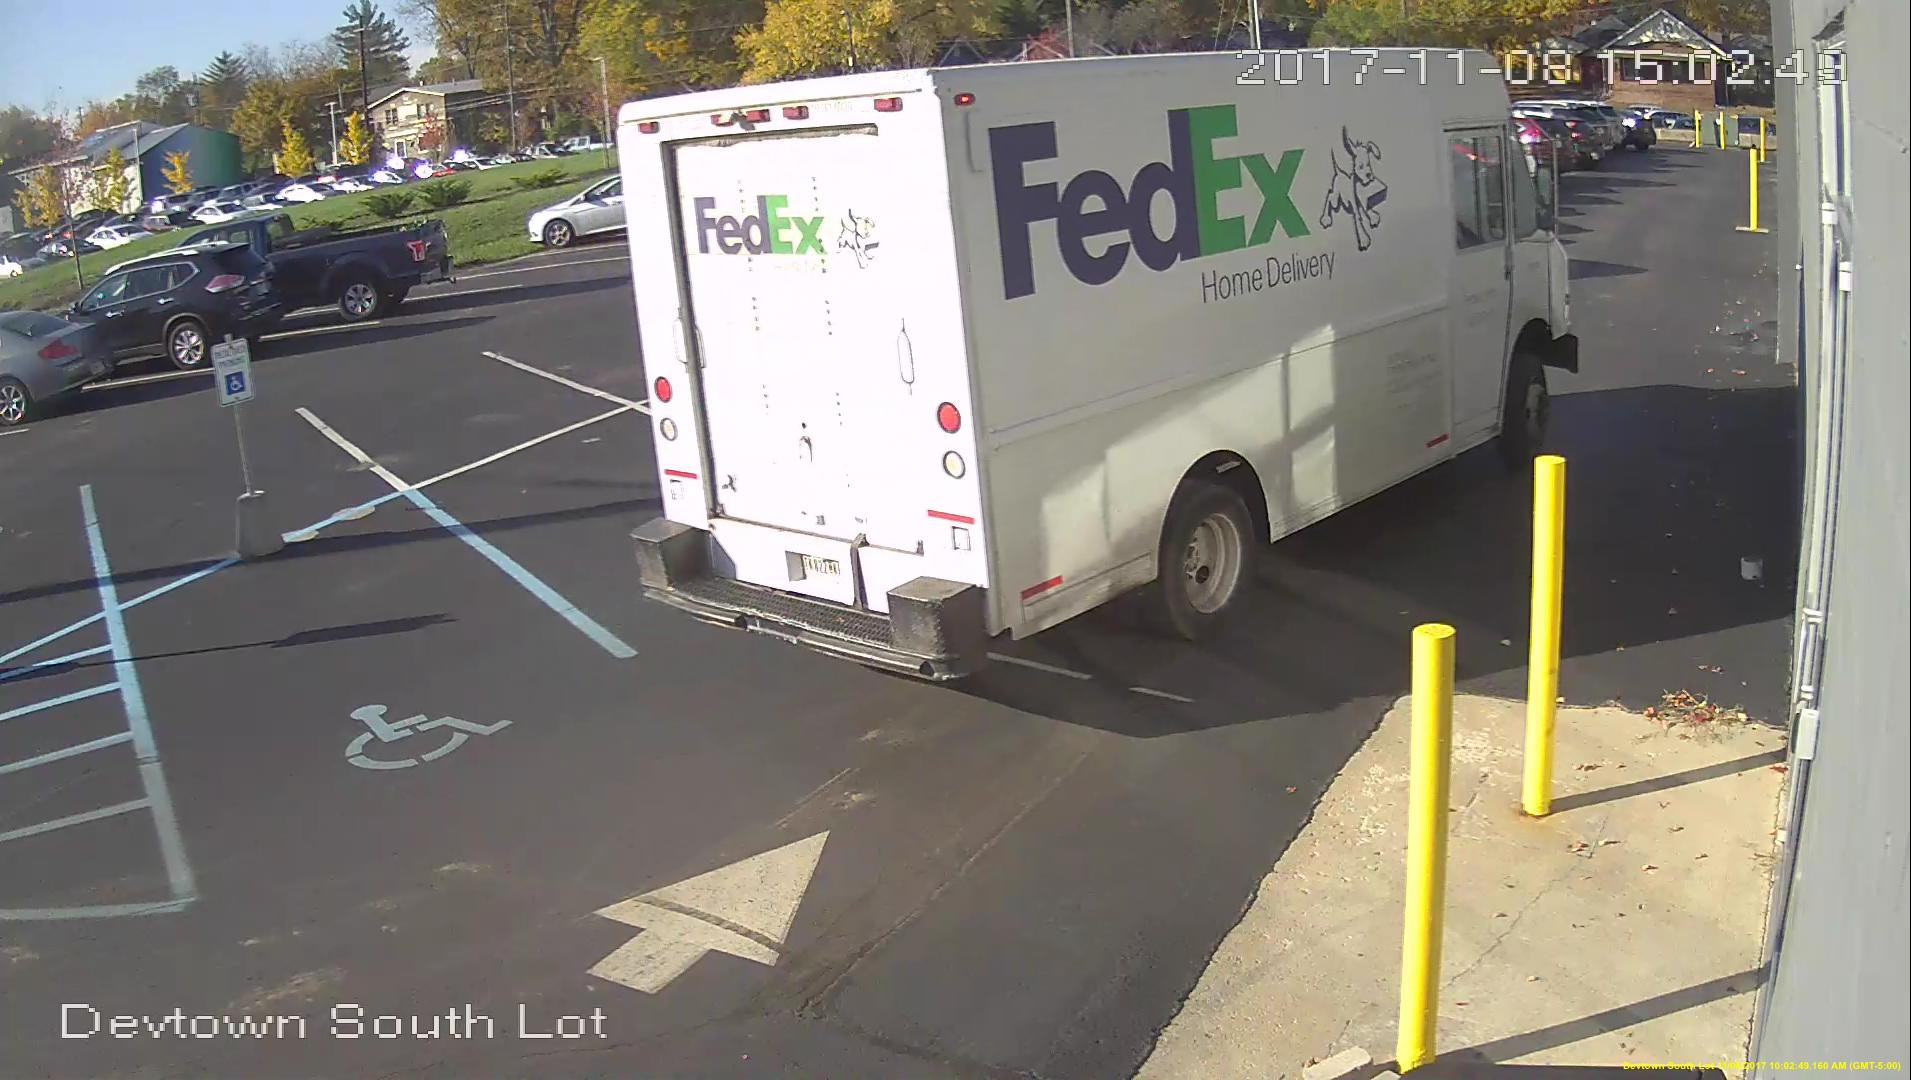fedex_truck: (612, 45, 1579, 685)
